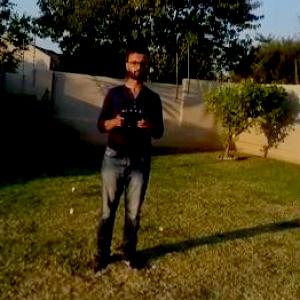follow: (76, 36, 168, 278)
